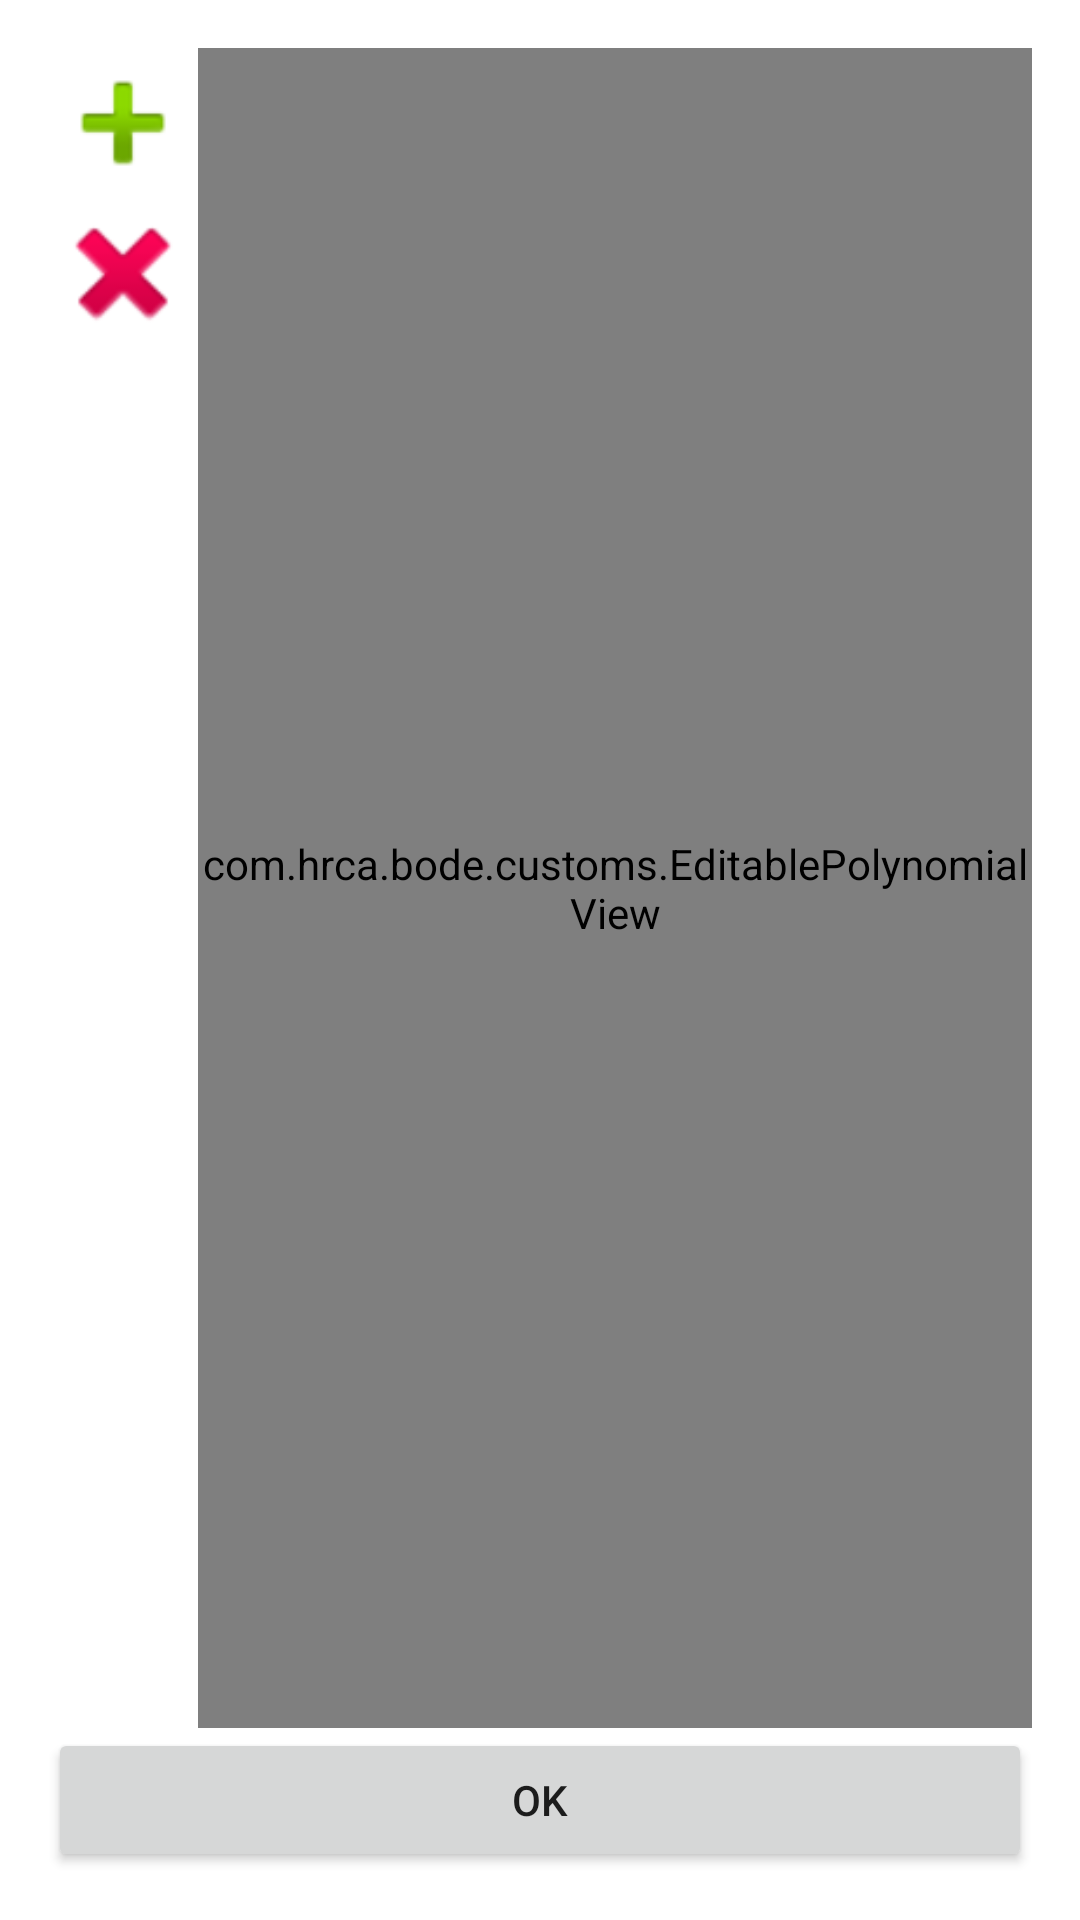

Icon click points for this 1080 × 1920 phone screenshot, format (x,y):
add: (123,123)
delete: (123,274)
